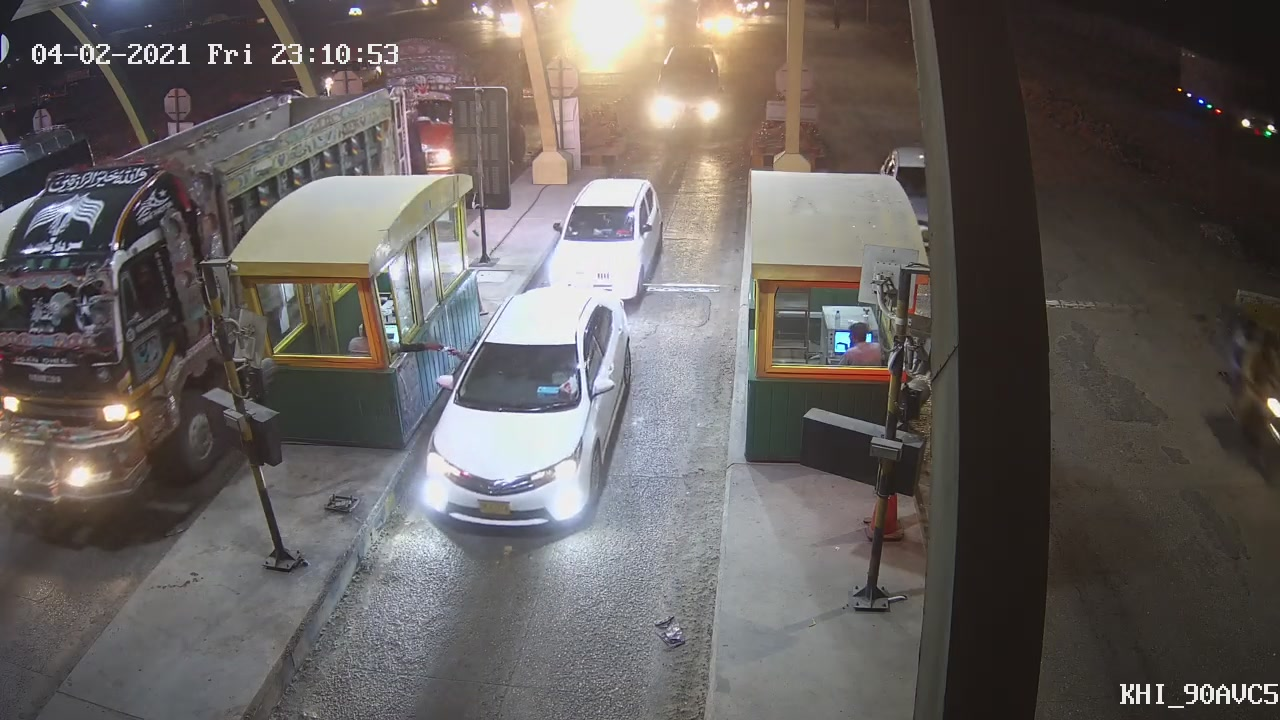F1: (419, 278, 641, 536)
